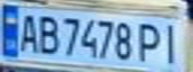4: (78, 16, 100, 58)
7: (93, 16, 118, 60), (57, 14, 81, 57)
8: (112, 18, 139, 62)
A: (15, 10, 42, 54)
B: (33, 11, 60, 55)
I: (157, 19, 187, 65)
P: (136, 20, 166, 64)
